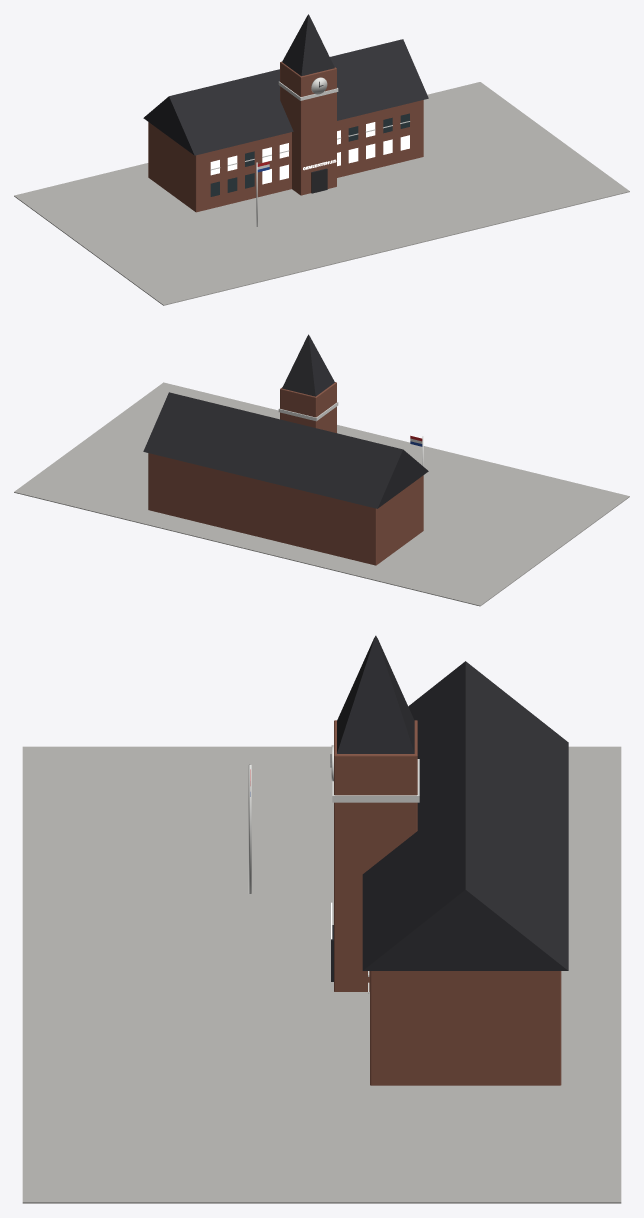
The model's file is lm_raadhuis.glb.
The picture shows the model from 3 angles, top to bottom: view 1: azimuth 30°, elevation 25°; view 2: azimuth 150°, elevation 25°; view 3: azimuth 270°, elevation 25°; orthographic projection. The views are drawn at different scales.
Parts seen in each view (by area): view 1: square, roof, hall, tower, hall_windows, spire; view 2: square, roof, hall, tower, spire; view 3: square, roof, hall, tower, spire, tower_band.
Part boxes in pixels (x1=…): square: x1=14, y1=82, x2=629, y2=305; roof: x1=143, y1=39, x2=428, y2=155; hall: x1=148, y1=100, x2=423, y2=212; tower: x1=280, y1=61, x2=336, y2=195; hall_windows: x1=210, y1=113, x2=409, y2=196; spire: x1=282, y1=14, x2=334, y2=76; square: x1=14, y1=382, x2=629, y2=606; roof: x1=143, y1=392, x2=428, y2=508; hall: x1=148, y1=453, x2=423, y2=565; tower: x1=280, y1=382, x2=336, y2=432; spire: x1=282, y1=334, x2=334, y2=396; square: x1=22, y1=746, x2=621, y2=1203; roof: x1=362, y1=661, x2=568, y2=970; hall: x1=370, y1=971, x2=561, y2=1085; tower: x1=334, y1=720, x2=417, y2=991; spire: x1=337, y1=635, x2=414, y2=753; tower_band: x1=332, y1=759, x2=419, y2=802.
Bounding box in the file's own units: 90 × 31.4 × 50.
